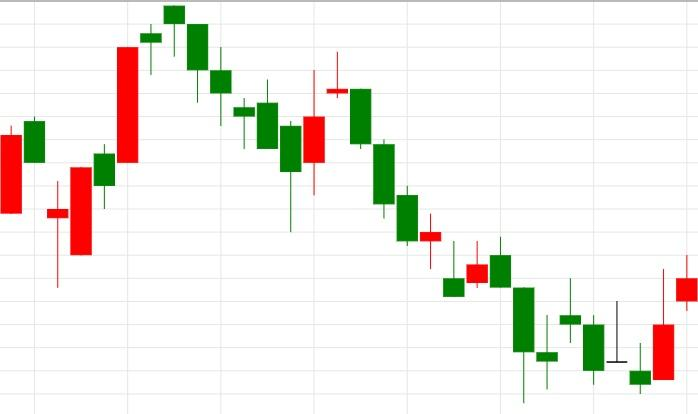hanging_man_fall: (47, 5, 185, 288)
